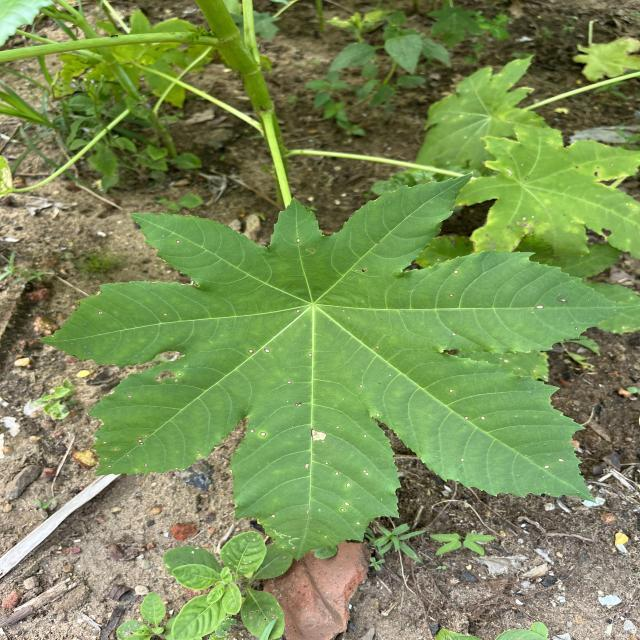Ricinus communis linn: (33, 167, 640, 565)
